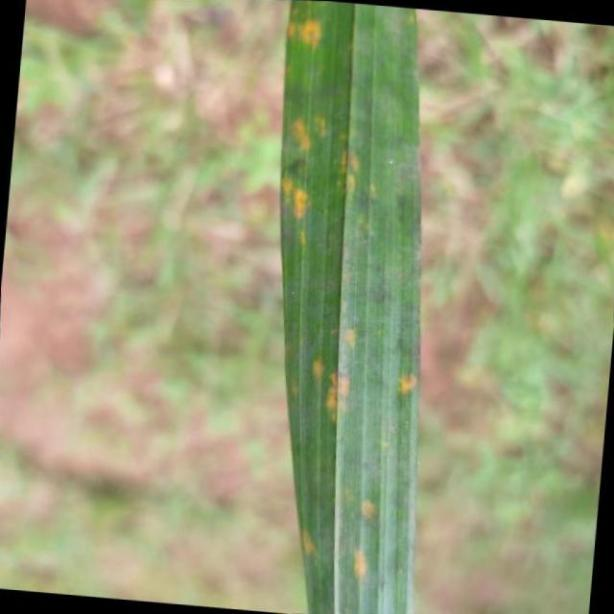Kalium: (275, 0, 421, 614)
